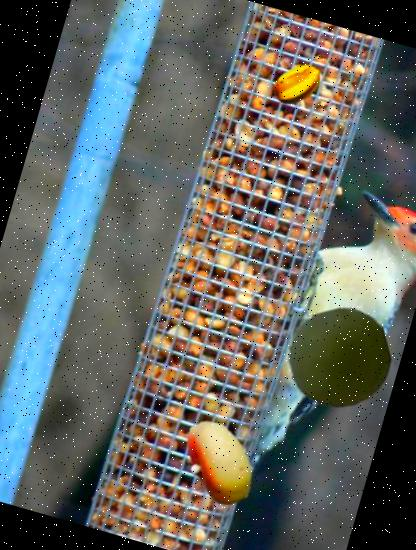Carambula: (266, 53, 329, 116)
Grape: (274, 294, 402, 424)
Peach: (164, 406, 274, 518)
